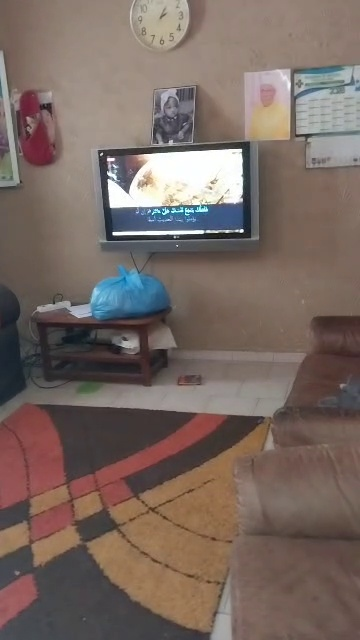television: (80, 138, 273, 258)
